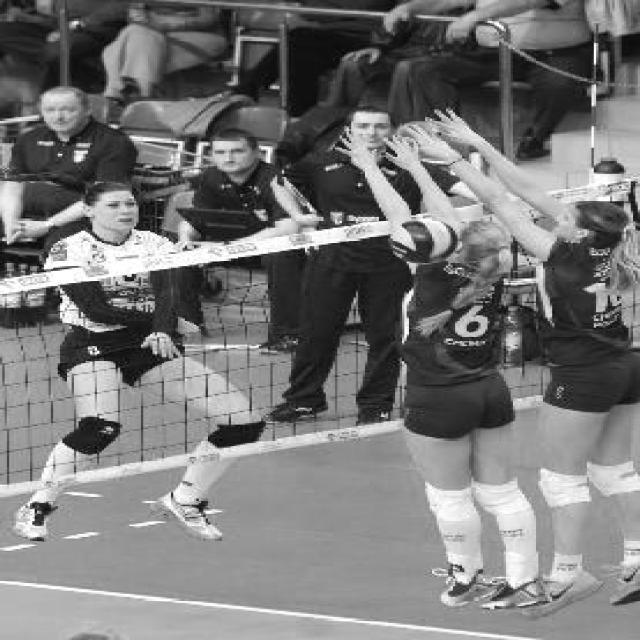volleyball: (390, 215, 456, 265)
